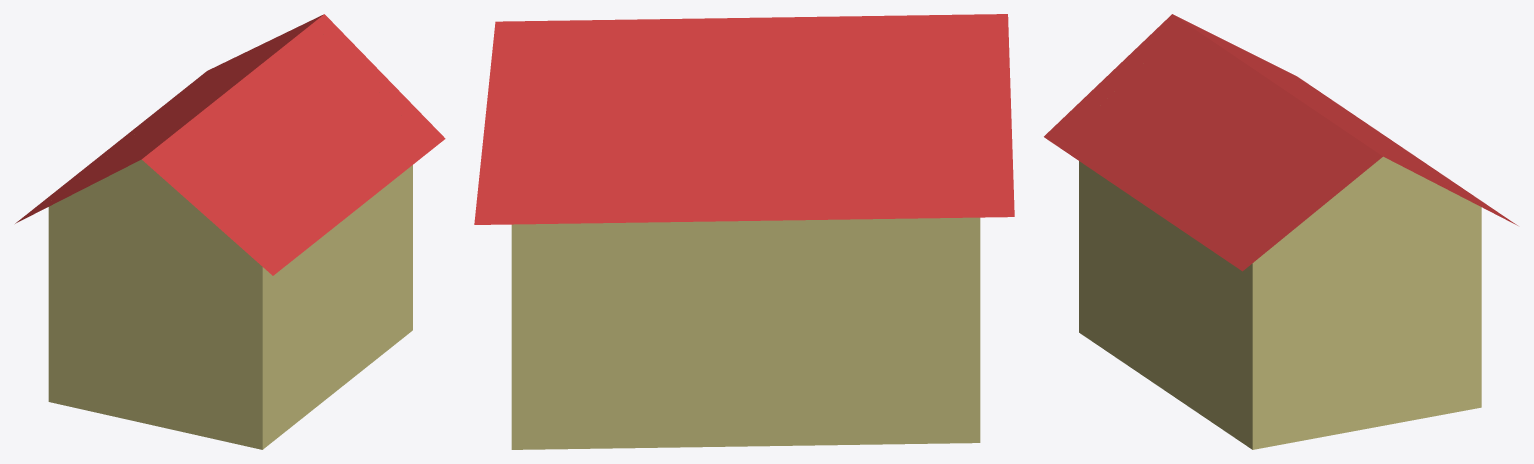
The picture shows the model from 3 angles, left to right: view 1: azimuth 30°, elevation 25°; view 2: azimuth 150°, elevation 25°; view 3: azimuth 270°, elevation 25°; orthographic projection. The views are drawn at different scales.
Size of the model in its own units: 18.45 by 18.41 by 12.
